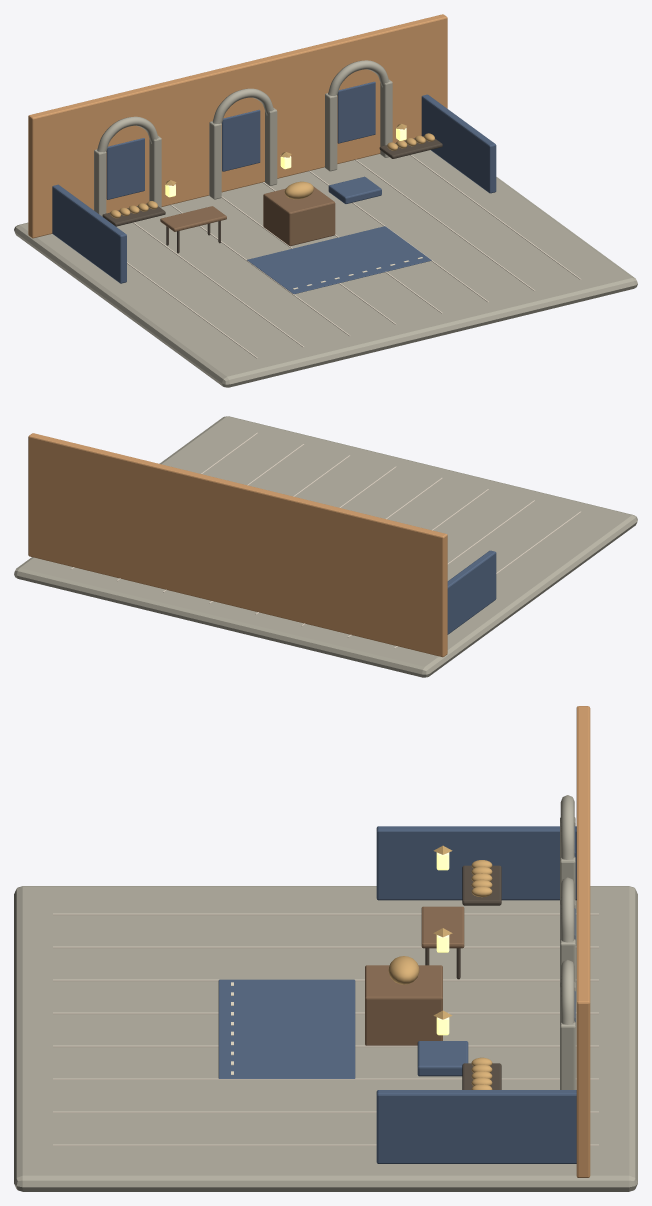
The model's file is match_memories-B_xxi2IB.glb.
The picture shows the model from 3 angles, top to bottom: view 1: azimuth 30°, elevation 25°; view 2: azimuth 150°, elevation 25°; view 3: azimuth 270°, elevation 25°; orthographic projection. The views are drawn at different scales.
Parts seen in each view (by area): view 1: world_stone.041, world_Story secondary.016, world_Story primary.016, world_wood.041, world_Story accent.016, world_darkwood.041, FX_blanket_Story primary.016, world_bread.041; view 2: world_Story secondary.016, world_stone.041, world_Story primary.016, world_Story accent.016; view 3: world_stone.041, world_Story primary.016, world_Story accent.016, world_wood.041, world_Story secondary.016, world_darkwood.041, FX_blanket_Story primary.016, world_bread.041, world_Lantern warm light.008, FX_memories_bread.041.
Boxes of the visible parts, bbox=[...] form: world_stone.041: bbox=[14, 60, 637, 387]; world_Story secondary.016: bbox=[28, 14, 447, 238]; world_Story primary.016: bbox=[52, 81, 496, 294]; world_wood.041: bbox=[160, 186, 335, 246]; world_Story accent.016: bbox=[127, 155, 581, 358]; world_darkwood.041: bbox=[102, 136, 442, 253]; FX_blanket_Story primary.016: bbox=[328, 176, 381, 203]; world_bread.041: bbox=[110, 133, 434, 218]; world_Story secondary.016: bbox=[28, 433, 447, 657]; world_stone.041: bbox=[14, 416, 637, 677]; world_Story primary.016: bbox=[447, 550, 496, 634]; world_Story accent.016: bbox=[70, 432, 581, 648]; world_stone.041: bbox=[14, 795, 637, 1191]; world_Story primary.016: bbox=[218, 826, 576, 1163]; world_Story accent.016: bbox=[53, 913, 598, 1145]; world_wood.041: bbox=[365, 906, 464, 1045]; world_Story secondary.016: bbox=[576, 706, 590, 1177]; world_darkwood.041: bbox=[425, 865, 501, 1089]; FX_blanket_Story primary.016: bbox=[417, 1041, 468, 1076]; world_bread.041: bbox=[471, 860, 492, 1089]; world_Lantern warm light.008: bbox=[436, 852, 449, 1035]; FX_memories_bread.041: bbox=[388, 956, 419, 984].
Size of the model in its own units: 18 by 5.46 by 16.
